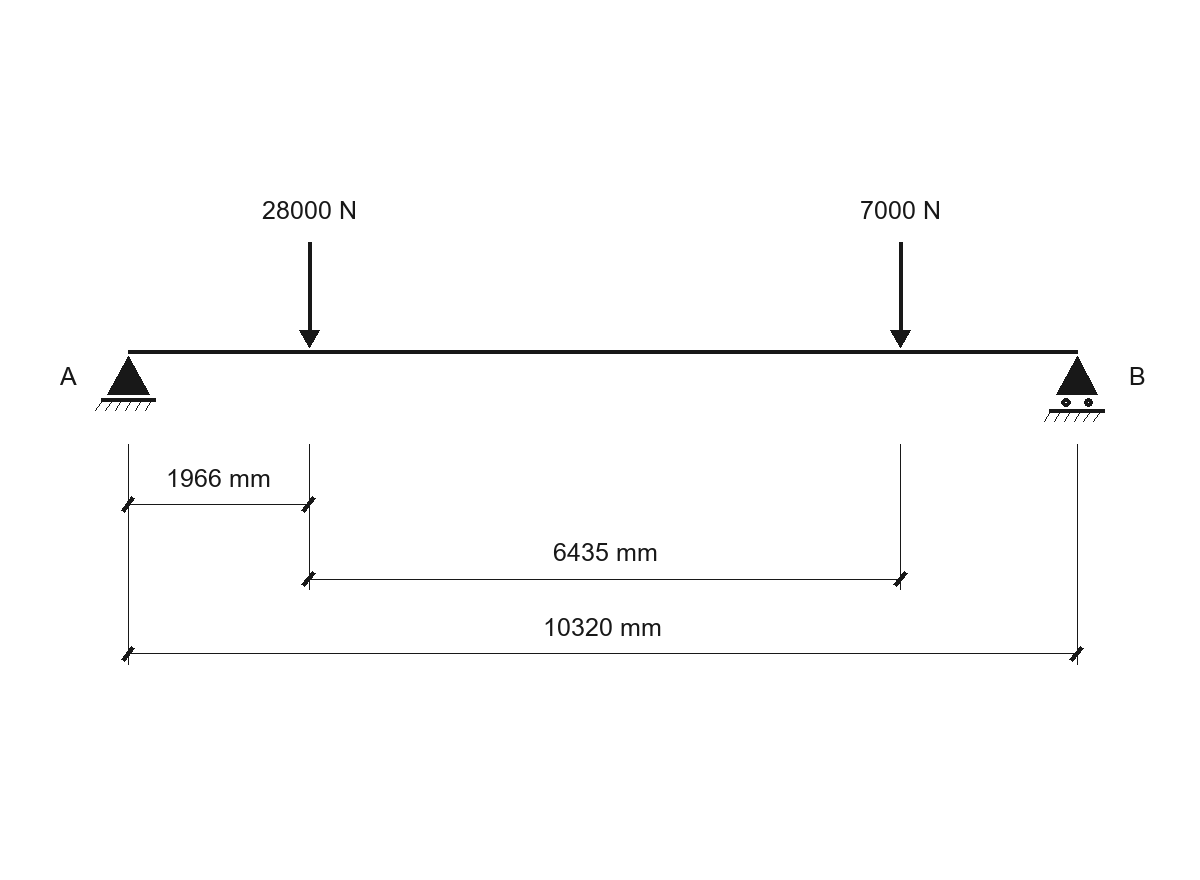pin_support: (95, 356, 156, 411)
point_load: (299, 242, 320, 348), (890, 242, 911, 348)
roller_support: (1044, 356, 1105, 422)
